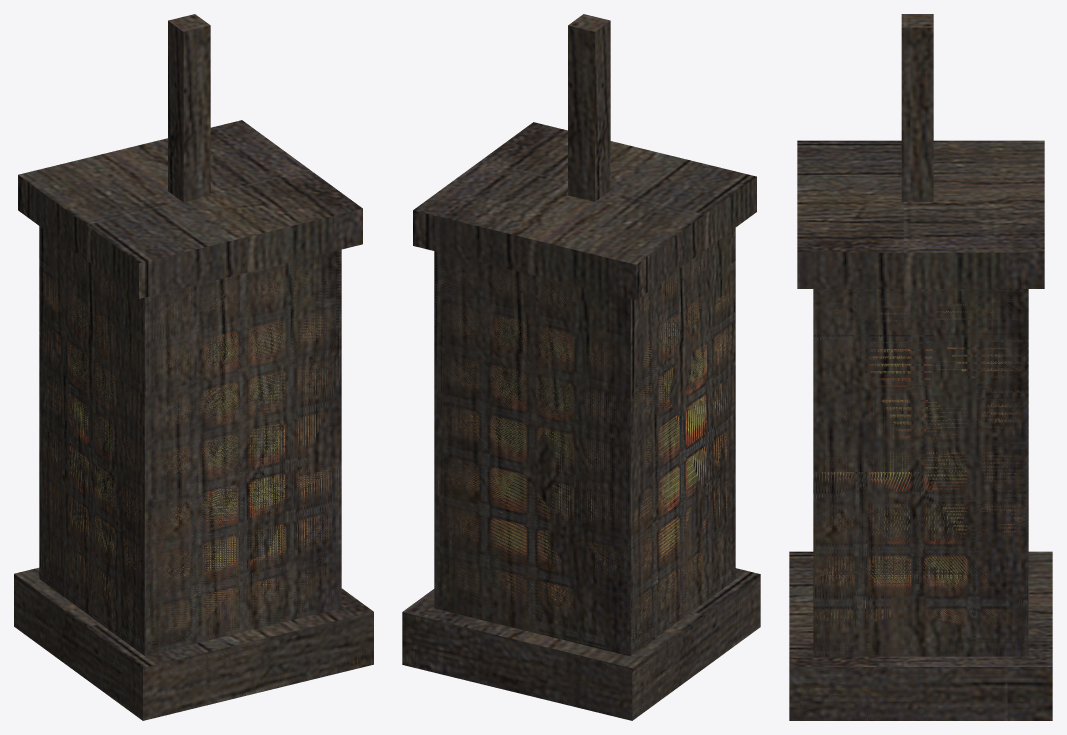
The model's file is Lamp 2.fbx.
3 renders of one model, left to right at view 1: azimuth 30°, elevation 25°; view 2: azimuth 150°, elevation 25°; view 3: azimuth 270°, elevation 25°, orthographic. The views are drawn at different scales.
Parts seen in each view (by area): view 1: Model; view 2: Model; view 3: Model.
Part boxes in pixels (x1=…): Model: x1=14, y1=14, x2=373, y2=720; Model: x1=402, y1=14, x2=760, y2=720; Model: x1=789, y1=14, x2=1052, y2=720.
Bounding box in the file's own units: 2.12 × 5.5 × 2.05.
